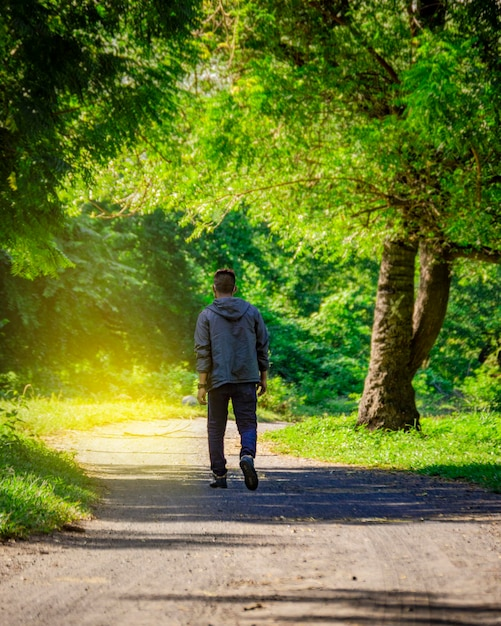Person: (185, 264, 279, 490)
Tree: (290, 12, 501, 450)
